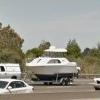Boat: (21, 50, 82, 84)
